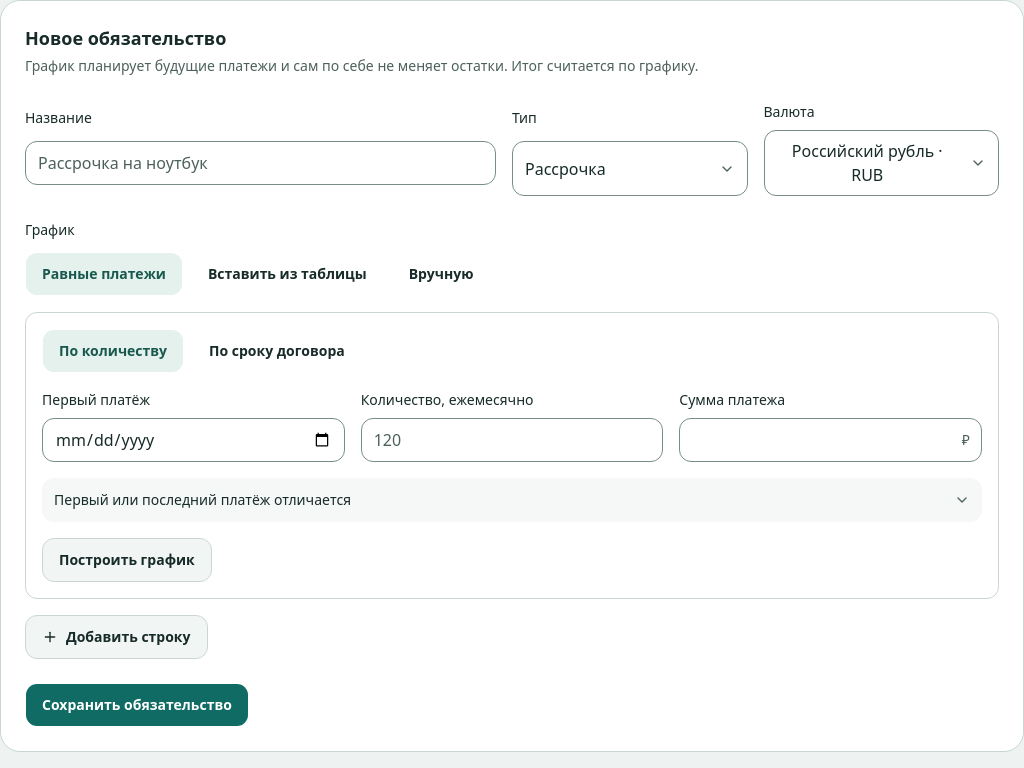
Test: SPEC-0037 obligation with a long schedule › does not save a schedule with a broken row
In the field labelled "Название": (260, 163) [25,141,496,185], type "Рассрочка"
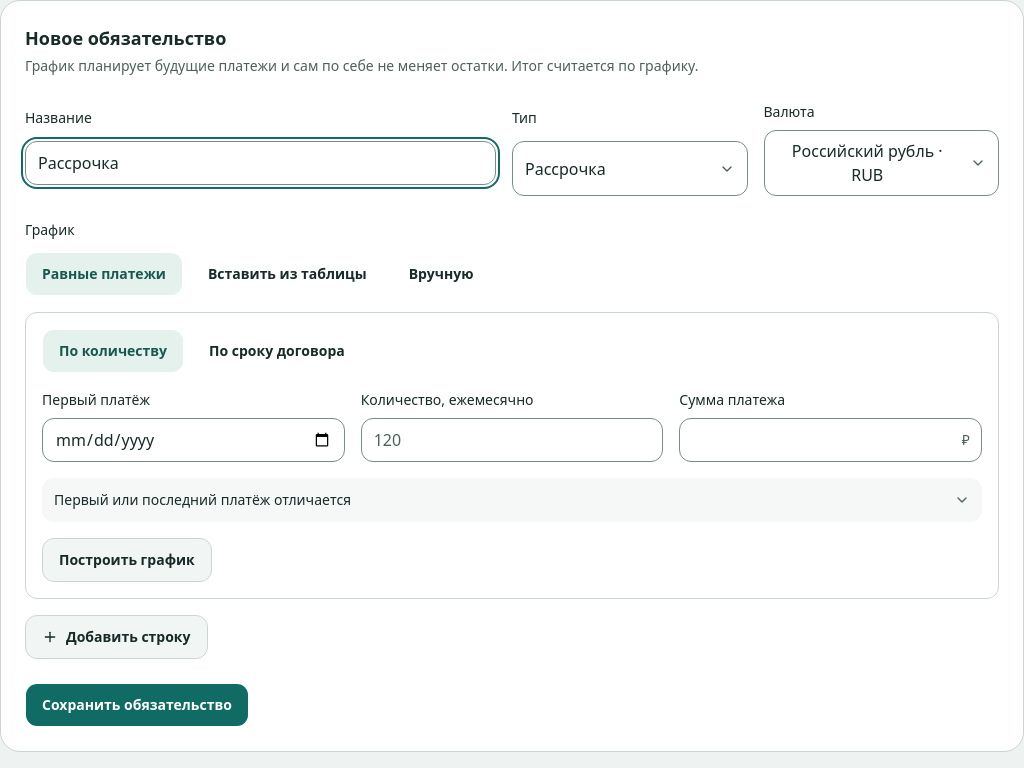
Click the button "Вручную": (441, 274) [392,252,490,296]
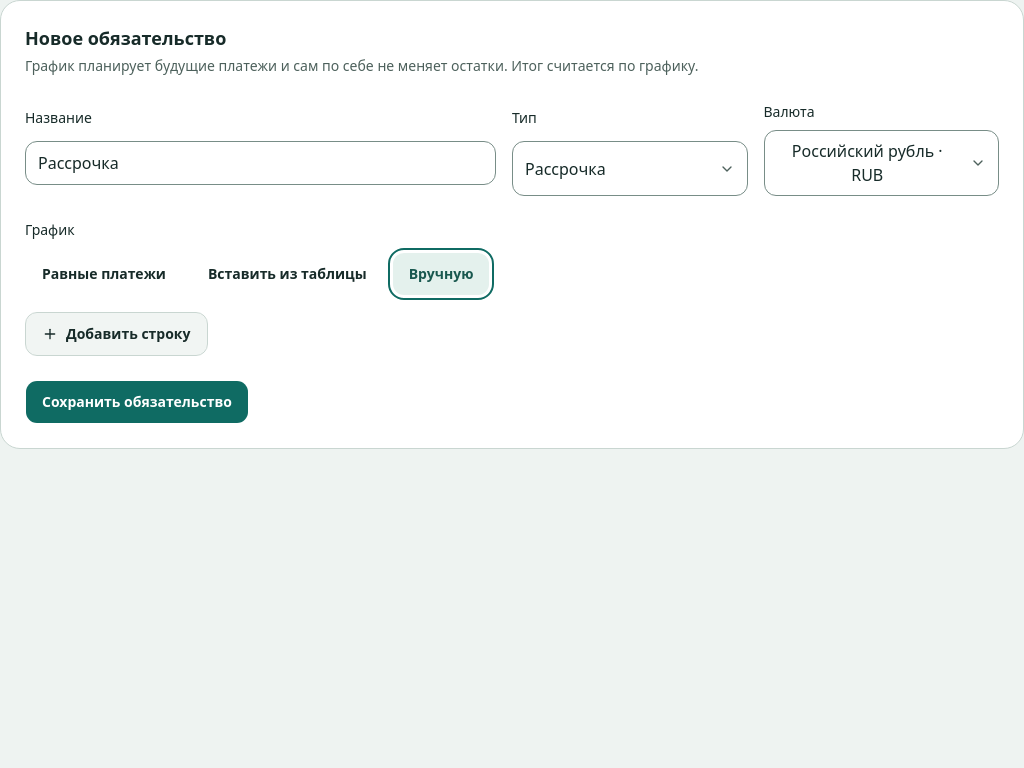
Click the button "Добавить строку": (116, 334) [25,312,208,356]
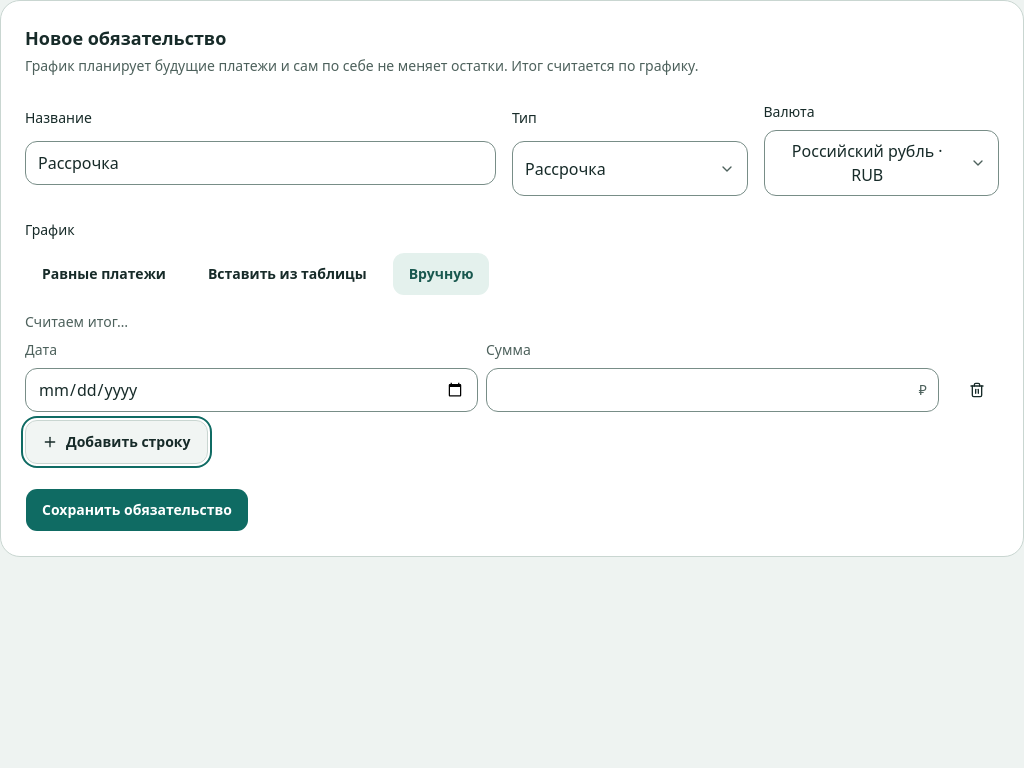
Click the button "Сохранить обязательство": (137, 510) [25,488,249,532]
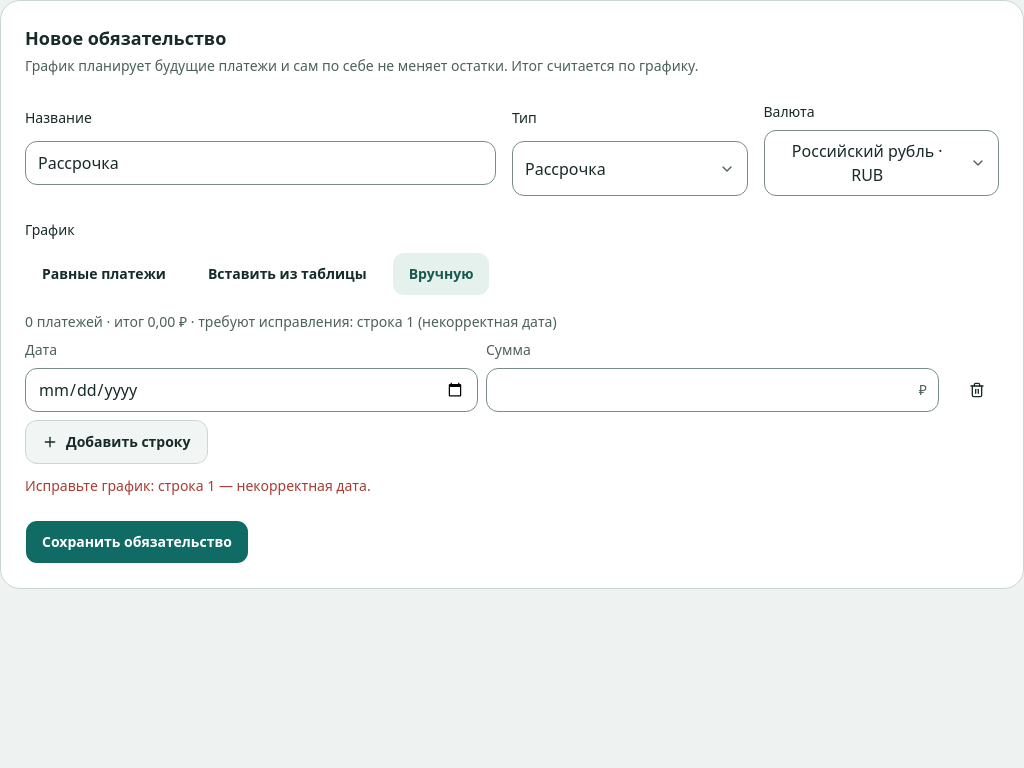
Expected: the text "Исправьте график: строка 1 — некорректная дата." is shown, [25,476,371,495]
